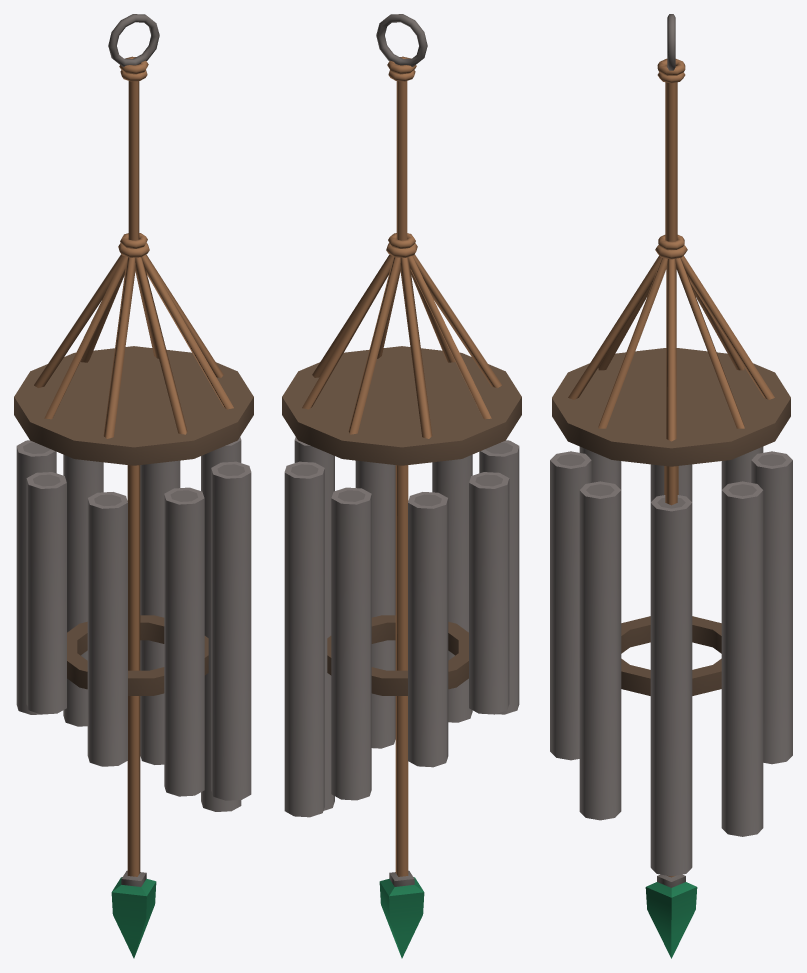
The model's file is WindChimes.fbx.
The picture shows the model from 3 angles, left to right: view 1: azimuth 30°, elevation 25°; view 2: azimuth 150°, elevation 25°; view 3: azimuth 270°, elevation 25°; orthographic projection.
Parts seen in each view (by area): view 1: WindChimes; view 2: WindChimes; view 3: WindChimes.
Part boxes in pixels (bbox=[...]): WindChimes: bbox=[14, 14, 253, 958]; WindChimes: bbox=[282, 14, 521, 958]; WindChimes: bbox=[550, 14, 792, 958].
Bounding box in the file's own units: 21.89 × 93.75 × 21.89.
